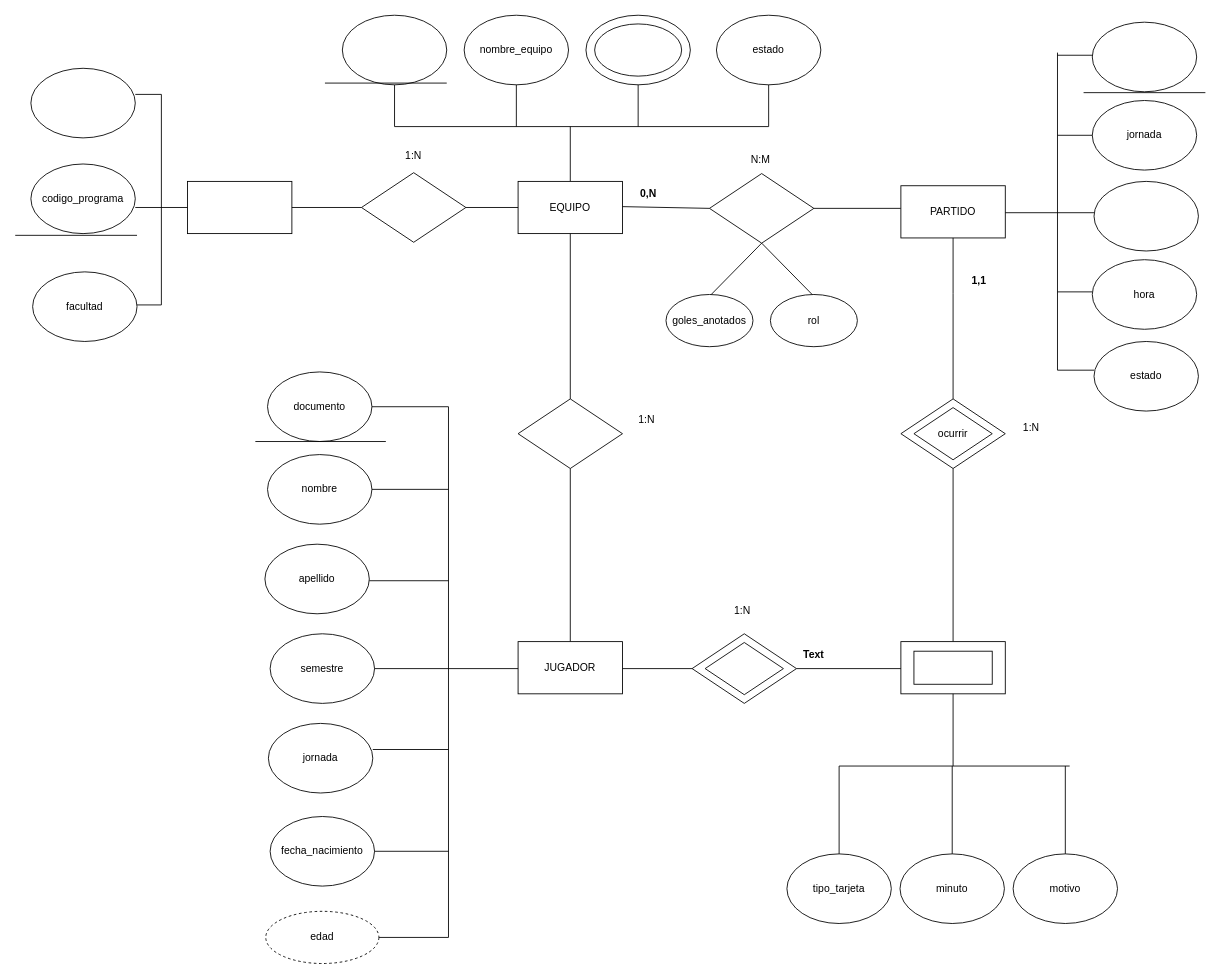
This 1221x979 diagram has some shape labels left out. The box of each missing label's shape, as (x1, y1, x2, y2) in pixels:
cancha: (1091, 21, 1197, 92)
codigo_equipo: (341, 14, 447, 85)
color_uniforme: (594, 23, 682, 76)
fecha: (1093, 181, 1198, 251)
integrar: (517, 398, 622, 468)
nombre_programa: (30, 67, 135, 138)
Participar: (709, 173, 814, 243)
Pertenecer: (361, 172, 466, 242)
PROGRAMA ACADEMICO: (187, 181, 292, 234)
recibir: (704, 642, 783, 695)
TARJETA: (913, 650, 992, 684)
